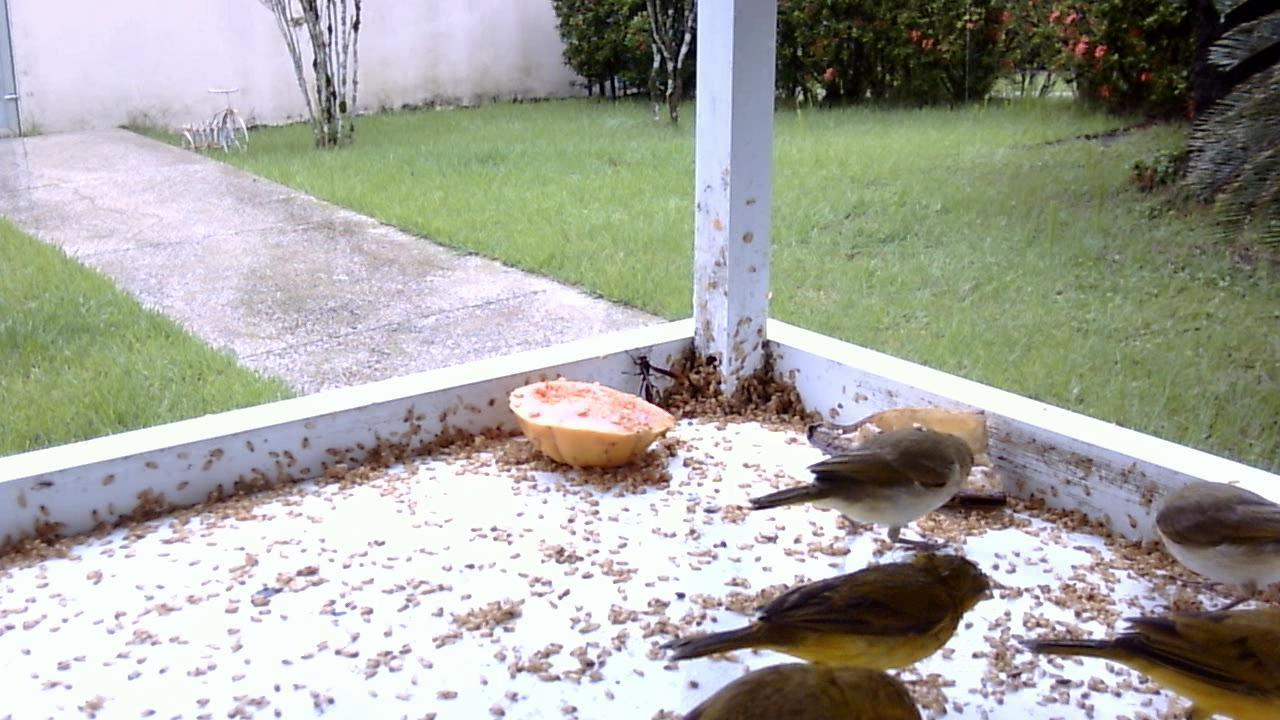canario_do_amazonas: (654, 541, 999, 693), (753, 401, 972, 573), (1019, 600, 1270, 718), (1139, 467, 1276, 619)
